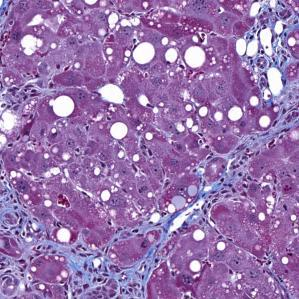fibrosis: (56, 236, 160, 296), (242, 9, 299, 100), (197, 148, 253, 203)
